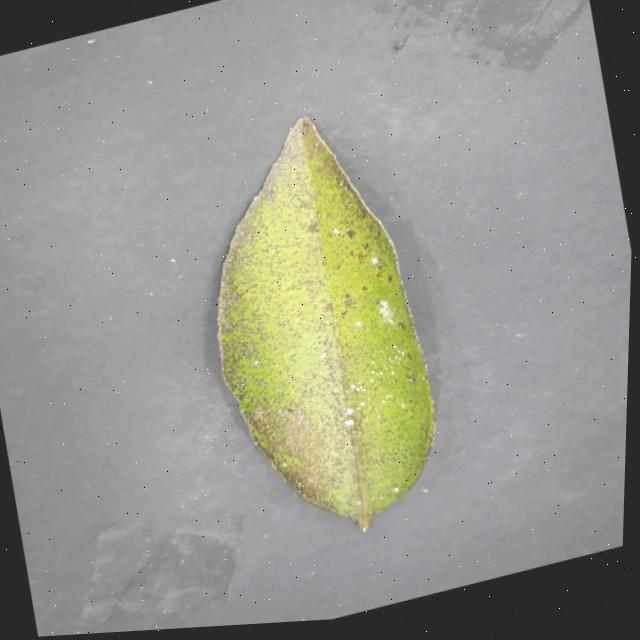greasy_spot: (218, 118, 434, 529)
